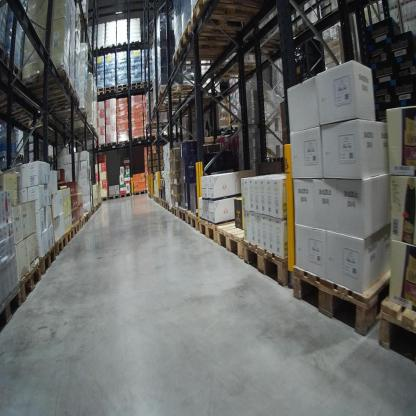pallet: (287, 257, 404, 340), (187, 2, 287, 33), (244, 236, 298, 290), (377, 292, 416, 362), (180, 23, 256, 54), (169, 40, 228, 73), (249, 22, 299, 60), (214, 219, 256, 264), (197, 214, 248, 249), (133, 133, 157, 200), (24, 67, 71, 100), (0, 283, 25, 336), (209, 62, 259, 86), (19, 258, 43, 307), (47, 82, 77, 117), (157, 80, 199, 103), (52, 92, 84, 116), (37, 244, 56, 283), (49, 111, 89, 125), (185, 92, 219, 107), (186, 206, 204, 233), (154, 101, 191, 113), (8, 52, 22, 82), (72, 124, 96, 138), (144, 121, 171, 131), (76, 13, 88, 35), (0, 46, 9, 73), (56, 233, 68, 253), (177, 205, 189, 223), (64, 226, 74, 246), (169, 202, 178, 219), (72, 220, 80, 237), (117, 138, 132, 147), (116, 85, 129, 94), (218, 126, 232, 134), (142, 83, 158, 90), (164, 200, 172, 214), (78, 217, 86, 231), (119, 192, 132, 200), (107, 193, 120, 201), (230, 114, 239, 125), (229, 125, 241, 133), (131, 84, 143, 92), (132, 136, 144, 144), (83, 211, 90, 224), (105, 142, 118, 148), (86, 208, 92, 221), (95, 143, 106, 150), (105, 89, 116, 95), (101, 195, 109, 203), (99, 90, 105, 96), (91, 208, 95, 216)
